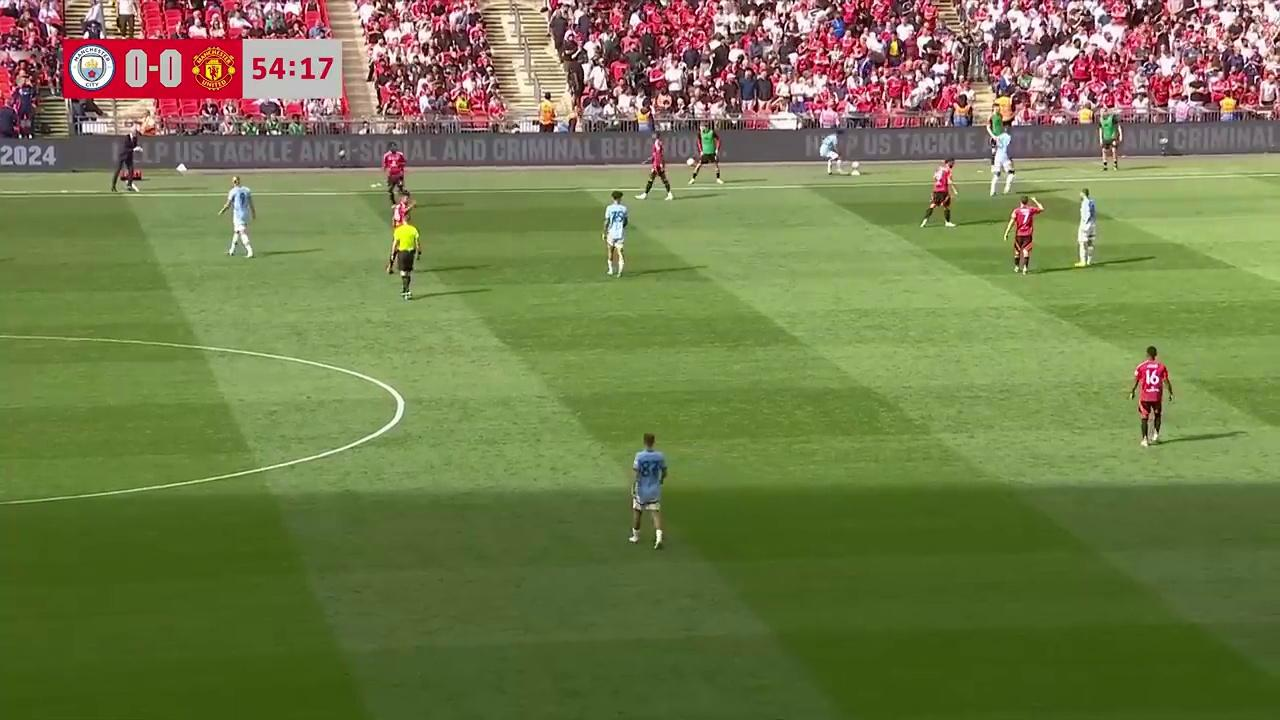player: (629, 433, 669, 547), (1129, 345, 1173, 447), (1003, 195, 1043, 274), (219, 175, 255, 258), (921, 159, 958, 228), (603, 192, 628, 277), (640, 137, 673, 200), (1075, 187, 1097, 267), (817, 129, 850, 176), (380, 147, 406, 204), (988, 138, 1013, 196), (393, 189, 418, 232)
referee: (387, 215, 422, 300)
